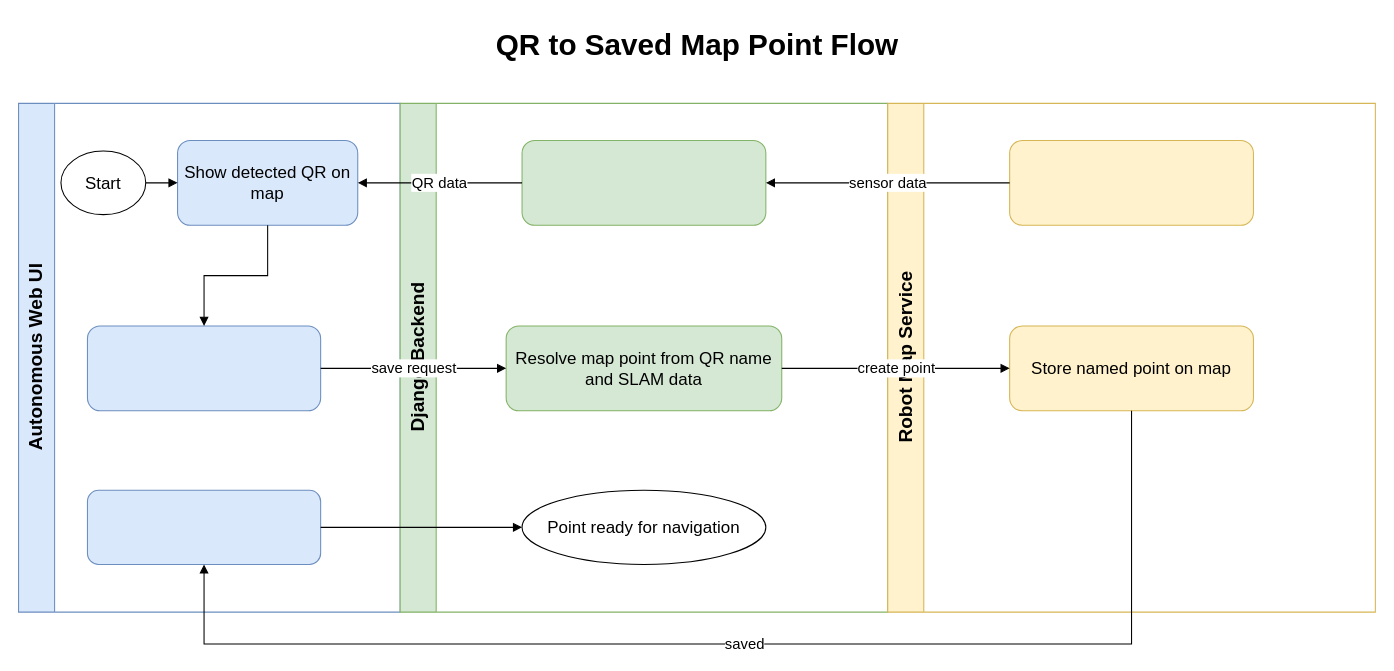
This 1394x671 diagram has some shape labels left out. Here are the shapes that lost their labels. From the top down, the centre of each, then its label:
point 643,182: Detect QR and estimate relative position
point 1131,182: Provide camera, pose and scan data
point 203,368: User saves QR point
point 203,526: Refresh saved points
